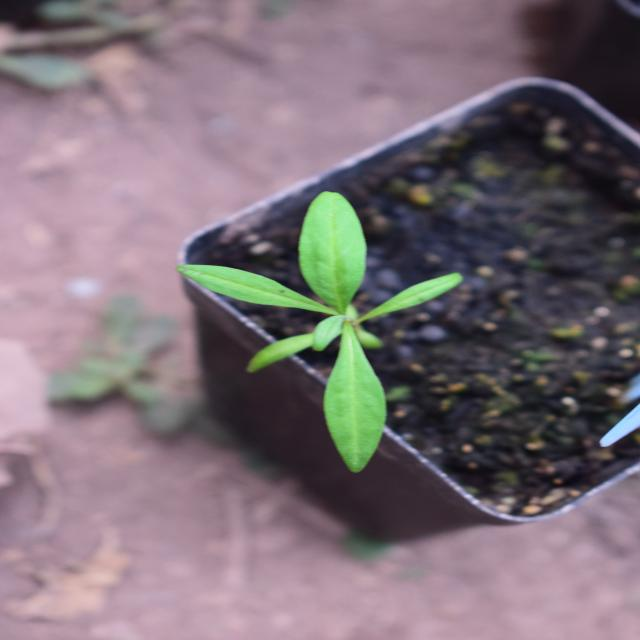white_smart_weed: (202, 166, 471, 509)
